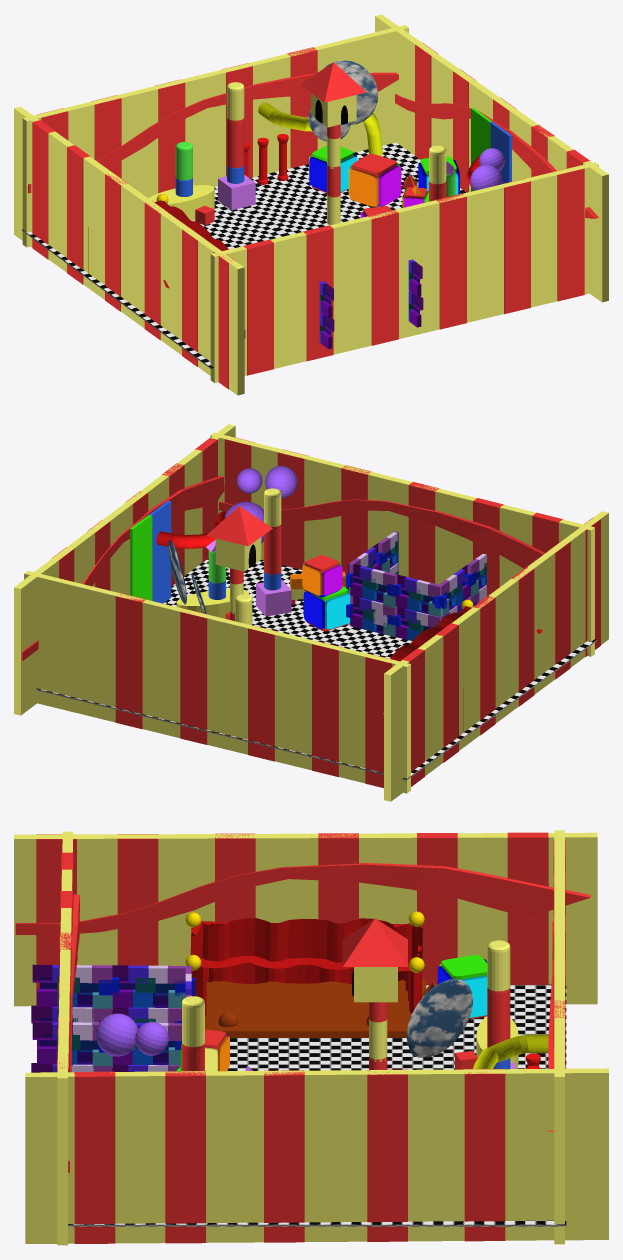
Rendered from TADC.obj.
The picture shows the model from 3 angles, top to bottom: view 1: azimuth 30°, elevation 25°; view 2: azimuth 150°, elevation 25°; view 3: azimuth 270°, elevation 25°; orthographic projection. The views are drawn at different scales.
Visible parts, largest first — view 1: obj102, obj90, obj104, obj112, obj9, obj99, obj98, obj96, obj101, obj97, obj89, obj100 (+35 smaller); view 2: obj90, obj104, obj102, obj112, obj103, obj95, obj10, obj94, obj92, obj93, obj91, obj99 (+35 smaller); view 3: obj112, obj104, obj111, obj132, obj140, obj117, obj116, obj113, obj115, obj114, obj8, obj105 (+28 smaller).
Boxes of the visible parts, x1,y1,x2,y2 form: obj102: (210, 162, 598, 382); obj90: (22, 25, 408, 247); obj104: (14, 106, 244, 395); obj112: (375, 14, 608, 302); obj9: (216, 142, 466, 236); obj99: (368, 210, 398, 345); obj98: (436, 193, 466, 329); obj96: (553, 165, 584, 301); obj101: (243, 239, 273, 375); obj97: (500, 178, 530, 314); obj89: (28, 72, 398, 193); obj100: (303, 225, 333, 361); obj90: (24, 571, 410, 793); obj104: (384, 511, 608, 801); obj102: (210, 432, 594, 656); obj112: (14, 424, 235, 715); obj103: (219, 499, 545, 568); obj95: (115, 593, 146, 728); obj10: (163, 558, 358, 645); obj94: (180, 609, 210, 744); obj92: (312, 641, 342, 776); obj93: (248, 625, 278, 761); obj91: (365, 654, 395, 787); obj99: (408, 482, 439, 583); obj112: (25, 1068, 608, 1243); obj104: (14, 832, 597, 1006); obj111: (15, 863, 590, 934); obj132: (205, 978, 426, 1037); obj140: (190, 918, 422, 971); obj117: (74, 1071, 115, 1243); obj116: (165, 1071, 205, 1243); obj113: (464, 1069, 505, 1241); obj115: (264, 1070, 304, 1242); obj114: (367, 1069, 407, 1241); obj8: (310, 984, 566, 1070); obj105: (507, 832, 548, 984).
Size of the model in its own units: 412 by 181 by 418.
